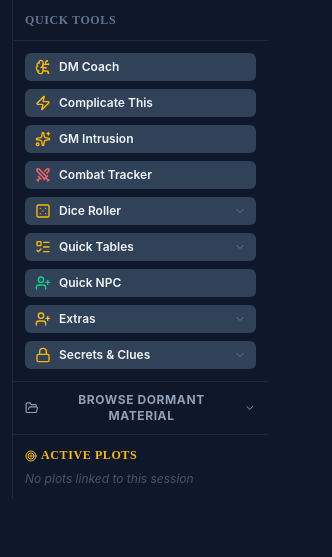
it: a failed generation says so and changes nothing › shows an alert and writes nothing to the store
The image size is (332, 557).
Click the button "GM Intrusion" at x=140, y=139, box left=25, top=125, right=256, bottom=153
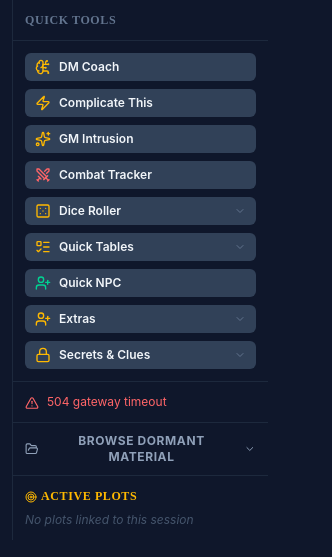
Result: the message "504 gateway timeout" is shown at left=25, top=394, right=167, bottom=410
